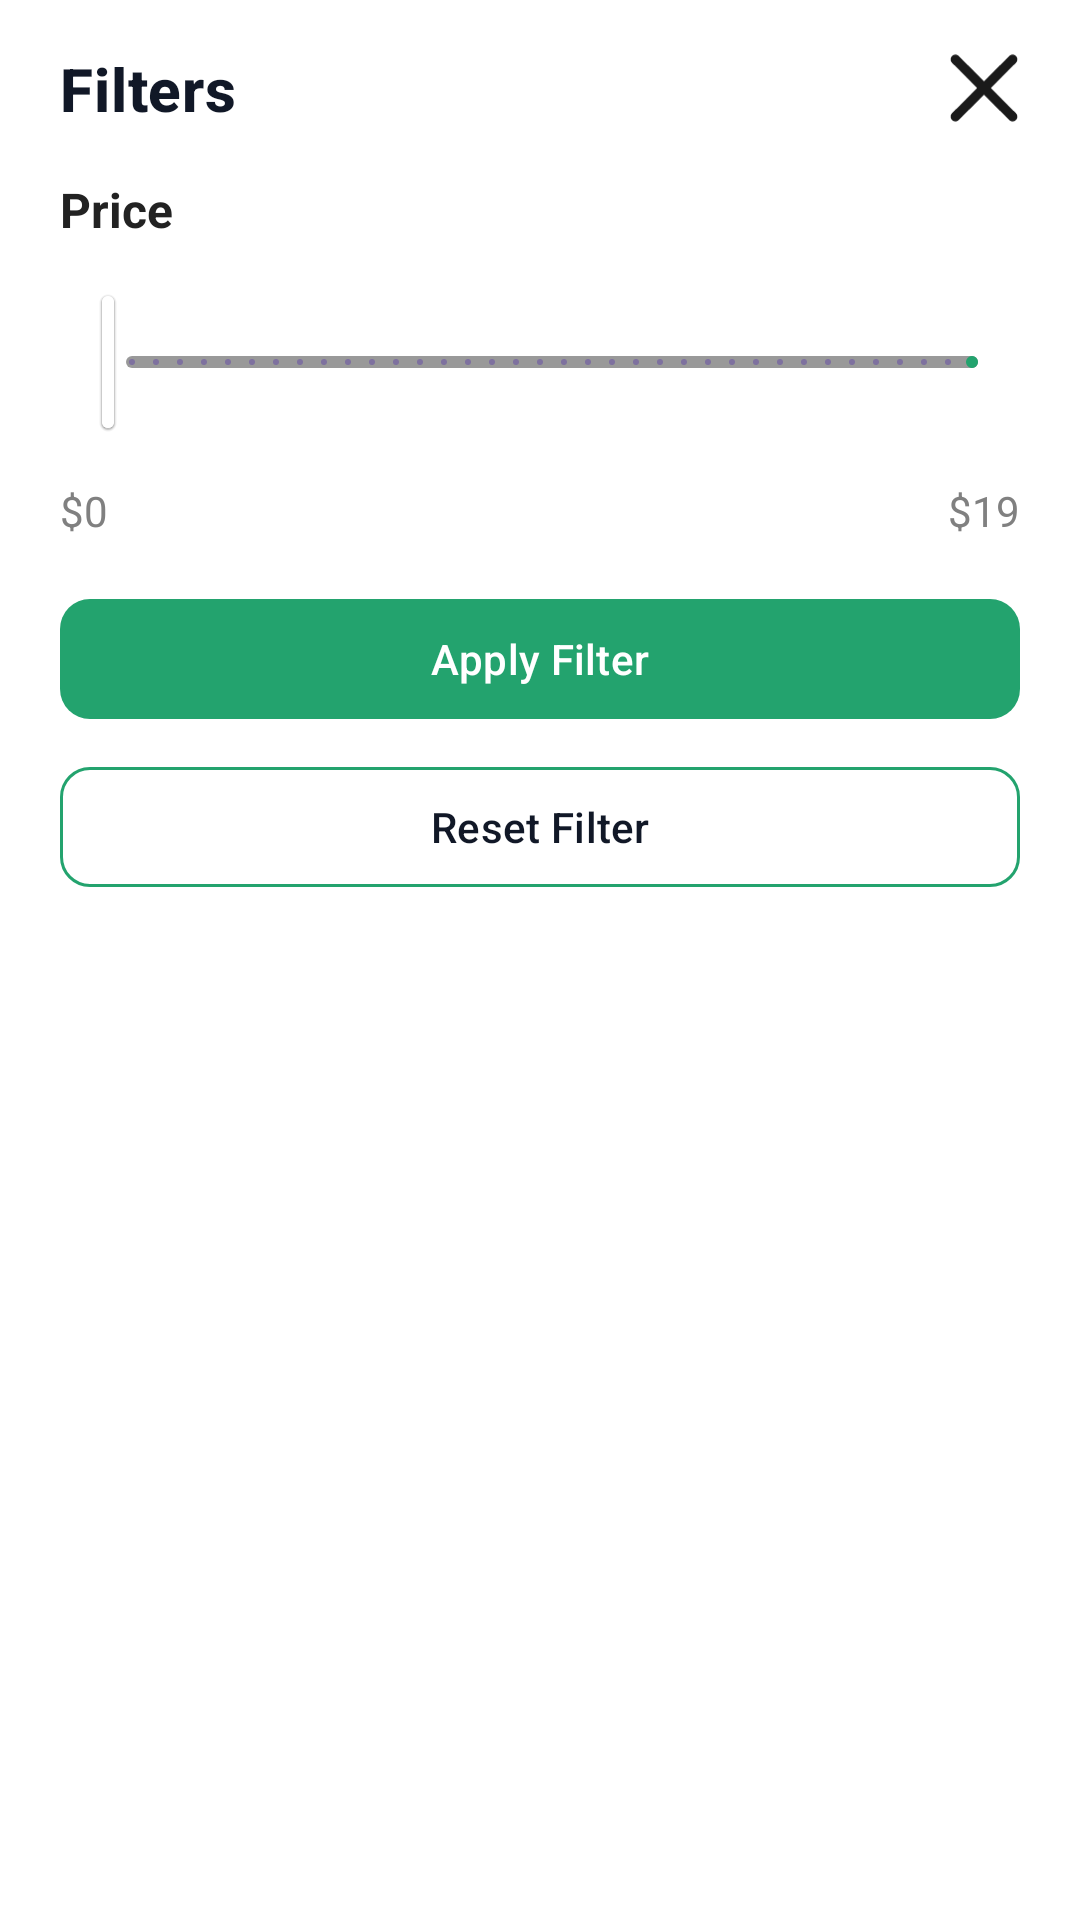

Where icons sit on this 1080×1920 app screen, as (x1, y1, x2, y2):
Close: (950, 54, 1018, 122)
